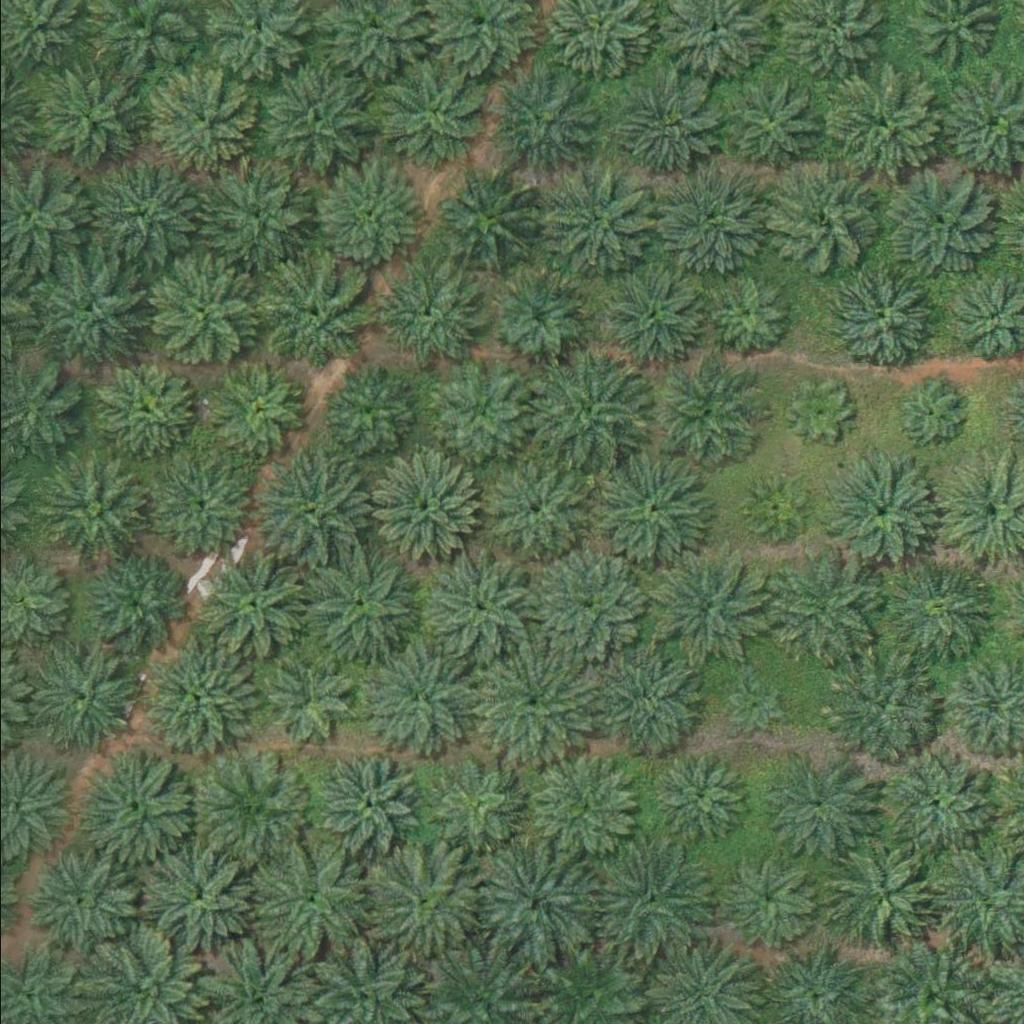Kelapa_Sawit: (599, 844, 713, 957), (755, 750, 869, 863), (427, 169, 541, 282), (375, 54, 489, 167), (309, 161, 423, 274), (256, 259, 370, 372), (145, 256, 259, 369), (827, 839, 940, 952), (478, 844, 591, 957), (875, 748, 988, 861), (654, 547, 767, 660), (531, 551, 644, 664), (820, 456, 933, 569), (594, 453, 707, 566), (765, 161, 878, 274), (652, 165, 765, 278), (537, 166, 650, 279), (827, 66, 940, 179), (707, 68, 820, 181), (197, 157, 310, 270), (364, 453, 477, 566), (419, 546, 532, 659), (305, 549, 418, 662), (200, 550, 313, 663), (140, 644, 253, 757), (81, 754, 194, 867), (365, 845, 478, 958), (24, 641, 137, 754), (30, 254, 143, 367), (820, 650, 934, 762), (877, 553, 991, 665), (487, 64, 601, 176), (38, 451, 152, 563), (523, 751, 636, 863), (589, 645, 702, 757), (476, 647, 589, 759), (765, 556, 878, 668), (475, 453, 588, 565), (648, 357, 761, 469), (526, 356, 639, 468), (821, 265, 934, 377), (590, 259, 703, 371), (880, 165, 993, 277), (605, 69, 718, 181), (258, 66, 371, 178), (143, 67, 256, 179), (90, 164, 203, 276), (251, 451, 364, 563), (141, 449, 254, 561), (358, 641, 471, 753), (195, 753, 308, 865), (253, 847, 366, 959), (147, 845, 260, 957), (23, 849, 136, 961), (27, 62, 140, 174), (485, 267, 586, 367), (430, 367, 531, 467), (320, 368, 421, 468), (85, 552, 186, 652), (252, 652, 353, 752), (430, 756, 531, 856), (319, 752, 420, 852), (719, 849, 819, 949), (650, 747, 750, 847), (381, 270, 481, 370), (206, 366, 306, 466), (94, 362, 194, 462), (705, 271, 793, 359), (743, 477, 806, 540), (897, 385, 960, 448), (786, 380, 849, 443), (723, 674, 786, 736)
